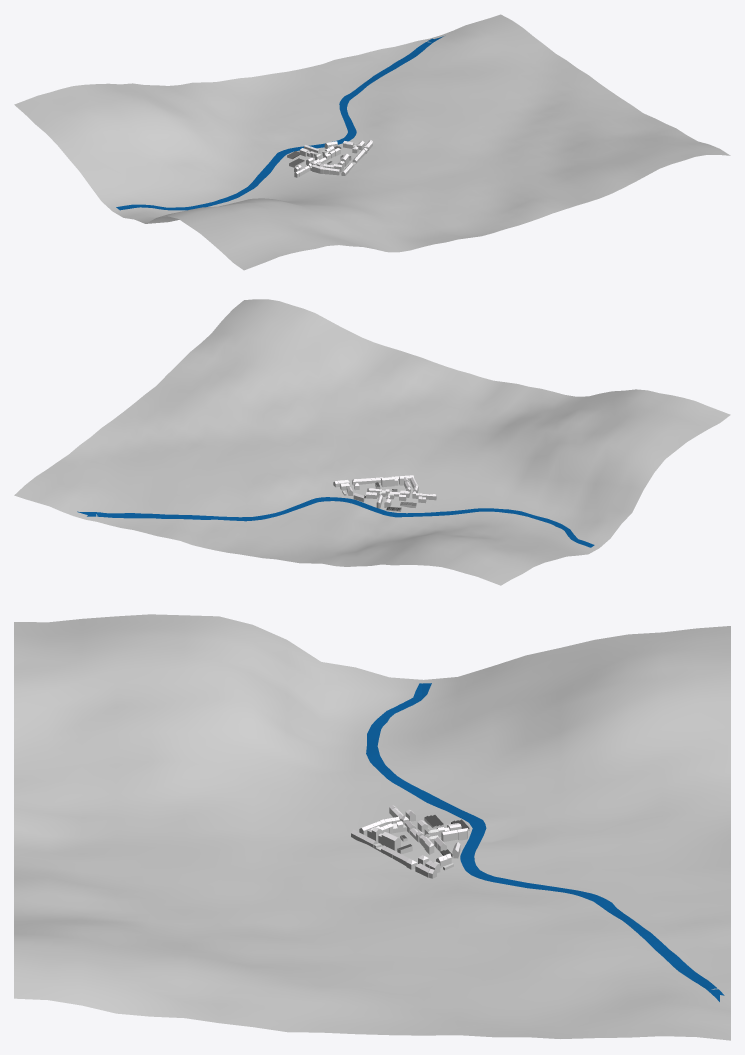
The model's file is 02_Energiequartier.gltf.
The picture shows the model from 3 angles, top to bottom: view 1: azimuth 30°, elevation 25°; view 2: azimuth 150°, elevation 25°; view 3: azimuth 270°, elevation 25°; orthographic projection. The views are drawn at different scales.
Parts seen in each view (by area): view 1: Satalite, map_3.osm_water; view 2: Satalite, map_3.osm_water; view 3: Satalite, map_3.osm_water.
Part boxes in pixels (x1,y1,x2,y2): Satalite: [14, 14, 730, 270]; map_3.osm_water: [116, 36, 443, 210]; Satalite: [14, 299, 730, 585]; map_3.osm_water: [77, 497, 594, 547]; Satalite: [14, 614, 730, 1040]; map_3.osm_water: [366, 683, 724, 1001].
Size of the model in its own units: 1587 by 157 by 1299.
